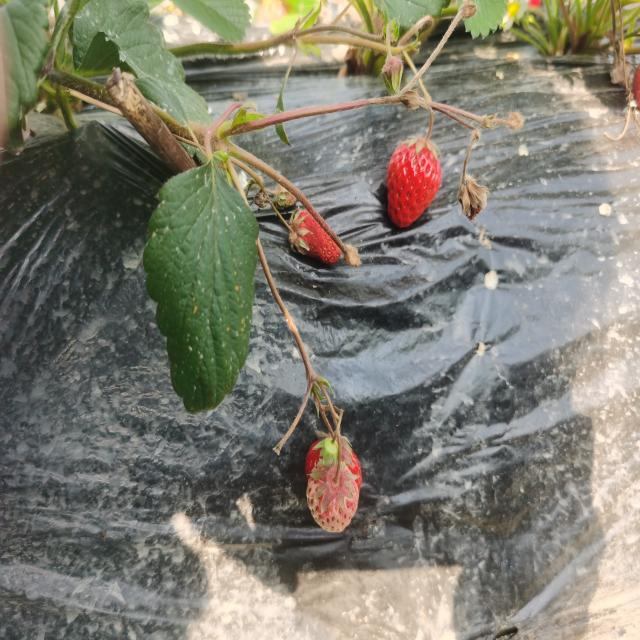stem: (274, 207, 294, 234), (332, 441, 341, 485), (322, 413, 334, 437), (423, 116, 433, 144)
strawberry: (387, 138, 442, 227), (307, 461, 359, 532), (291, 210, 341, 264)
